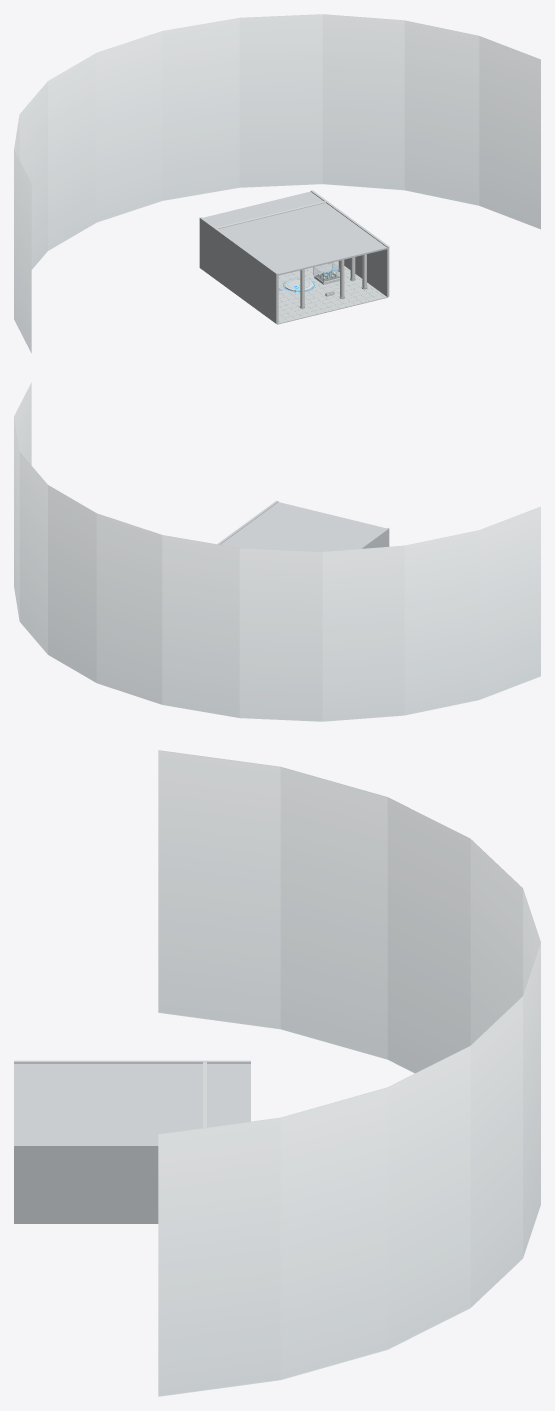
The model's file is room4.glb.
The picture shows the model from 3 angles, top to bottom: view 1: azimuth 30°, elevation 25°; view 2: azimuth 150°, elevation 25°; view 3: azimuth 270°, elevation 25°; orthographic projection. The views are drawn at different scales.
Parts seen in each view (by area): view 1: backdrop_room4_sky, r4_shell, r4_foreground; view 2: backdrop_room4_sky, r4_shell; view 3: backdrop_room4_sky, r4_shell.
Part boxes in pixels (x1,y1,x2,y2): backdrop_room4_sky: (14, 14, 540, 353); r4_shell: (199, 190, 389, 324); r4_foreground: (299, 260, 344, 308); backdrop_room4_sky: (14, 382, 540, 721); r4_shell: (217, 500, 389, 551); backdrop_room4_sky: (158, 750, 540, 1396); r4_shell: (14, 1060, 250, 1223).
Size of the model in its own units: 138 by 44 by 80.
Materials: 18 (3 with a texture image).
